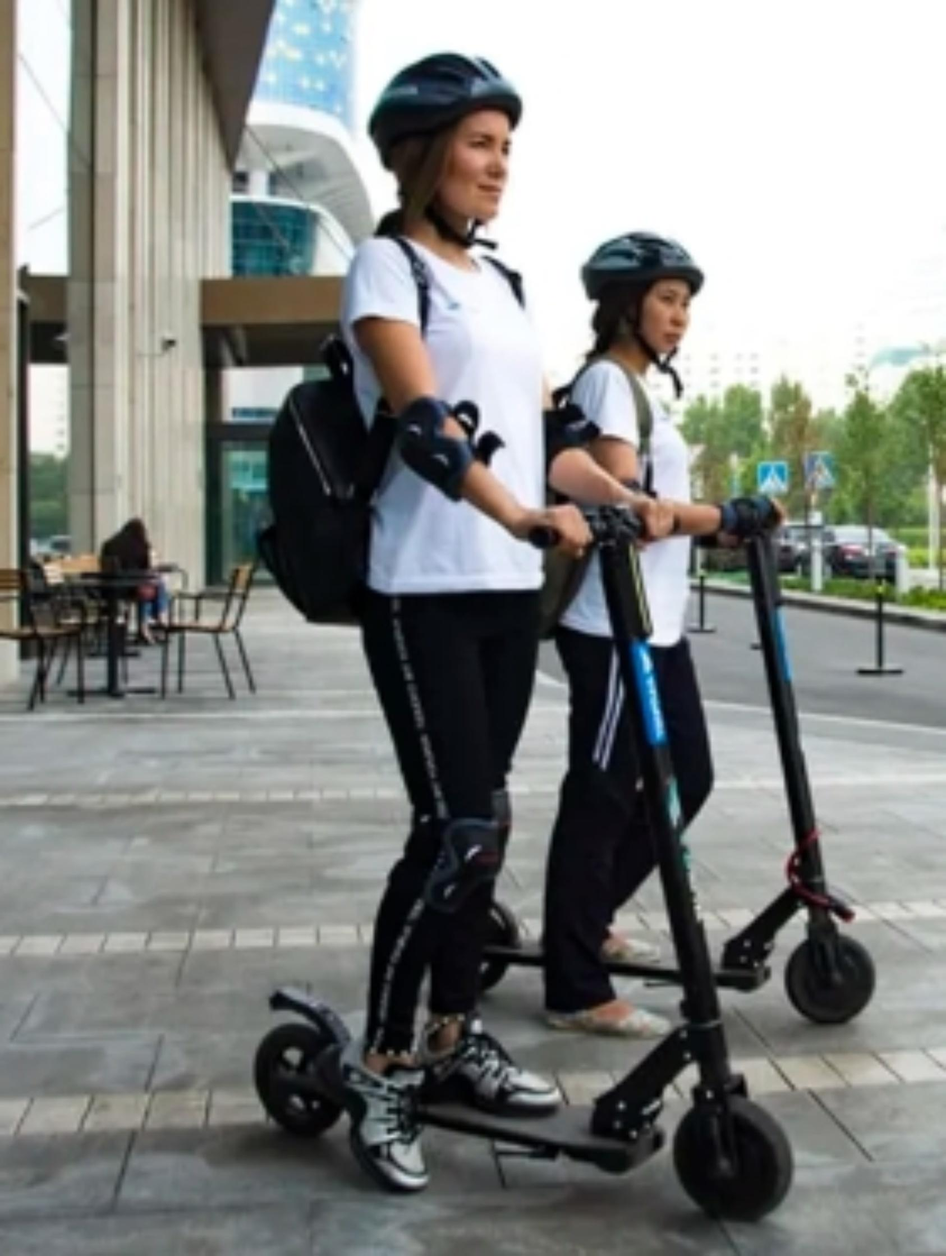helmet: (354, 51, 528, 252), (565, 225, 696, 364)
human: (292, 52, 548, 1201), (555, 238, 703, 948)
kickboard: (239, 1017, 795, 1217), (469, 876, 874, 1035)
